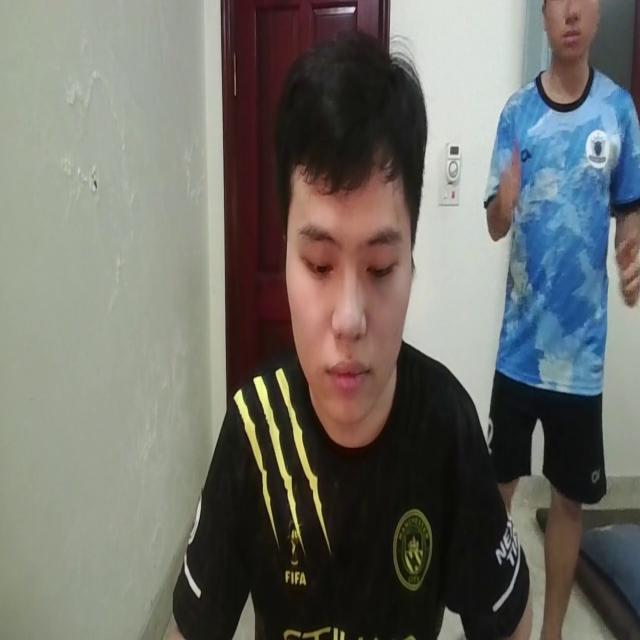extra_person: (471, 2, 640, 626)
student: (164, 32, 534, 640)
